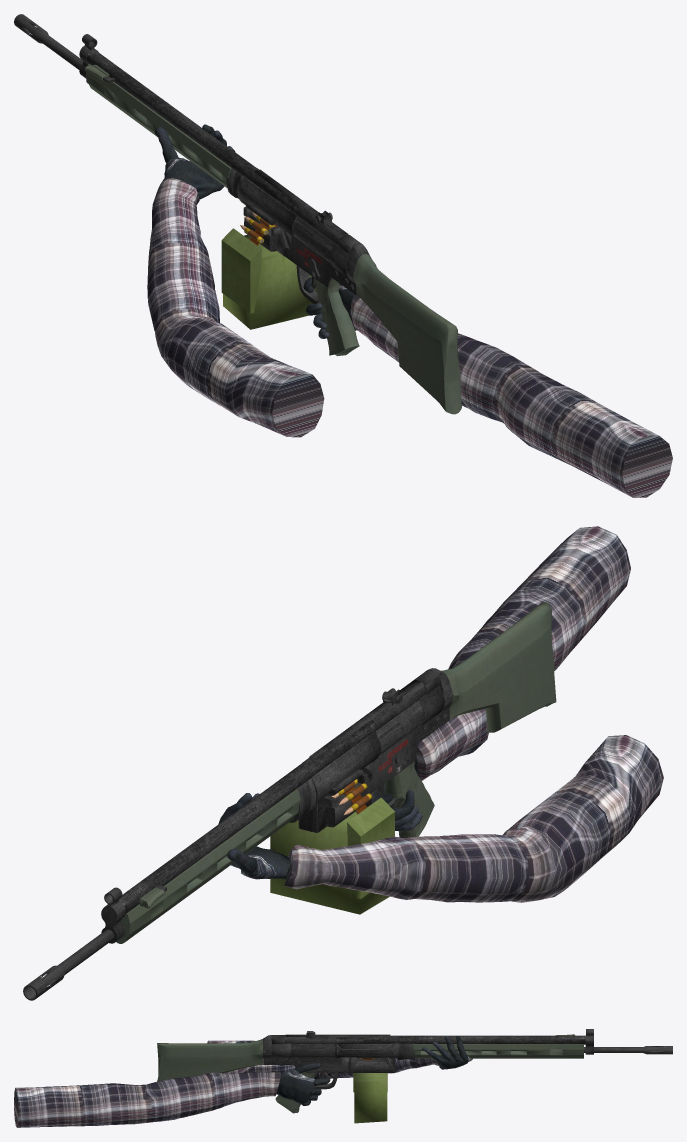
Rendered from hk21_view.fbx.
3 renders of one model, top to bottom at view 1: azimuth 30°, elevation 25°; view 2: azimuth 150°, elevation 25°; view 3: azimuth 270°, elevation 25°, orthographic. The views are drawn at different scales.
Parts seen in each view (by area): view 1: larm, rarm, pCube15, pCube21, pCylinder6, pCube3, pCube22, pCube7, pCube6, pCylinder5, lhand, pPipe1 (+1 smaller); view 2: larm, rarm, pCube15, pCylinder6, pCube3, pCube21, pCylinder5, pCube6, pCube22, pCube7, pPipe1, pCylinder2 (+5 smaller); view 3: rarm, pCube15, pCube3, pCylinder6, pCube21, larm, rhand, pCube6, pCube5, pCylinder5, pCylinder2, pPipe1 (+10 smaller).
Part boxes in pixels (box(x1,y1,x2,y2)): larm: box(147, 177, 324, 437); rarm: box(350, 294, 672, 497); pCube15: box(353, 254, 461, 414); pCube21: box(223, 234, 316, 329); pCylinder6: box(87, 50, 299, 214); pCube3: box(86, 64, 231, 187); pCube22: box(221, 228, 261, 313); pCube7: box(315, 278, 359, 356); pCube6: box(284, 236, 356, 294); pCylinder5: box(239, 177, 297, 238); lhand: box(164, 157, 224, 199); pPipe1: box(14, 14, 82, 69); larm: box(283, 735, 663, 902); rarm: box(416, 526, 630, 780); pCube15: box(441, 602, 556, 732); pCylinder6: box(119, 720, 375, 914); pCube3: box(116, 789, 300, 943); pCube21: box(270, 806, 389, 914); pCylinder5: box(311, 731, 380, 803); pCube6: box(365, 707, 449, 794); pCube22: box(347, 797, 394, 898); pCube7: box(384, 762, 434, 837); pPipe1: box(23, 929, 114, 1000); pCylinder2: box(375, 700, 424, 755); rarm: box(14, 1072, 281, 1127); pCube15: box(157, 1039, 262, 1081); pCube3: box(413, 1044, 583, 1058); pCylinder6: box(335, 1035, 585, 1044); pCube21: box(354, 1073, 387, 1123); larm: box(207, 1040, 439, 1079); rhand: box(276, 1068, 315, 1104); pCube6: box(263, 1057, 348, 1072); pCube5: box(340, 1057, 395, 1072); pCylinder5: box(335, 1043, 398, 1058); pCylinder2: box(291, 1044, 335, 1056); pPipe1: box(584, 1046, 672, 1054).
Size of the model in its own units: 17.2 by 9.43 by 64.52.
